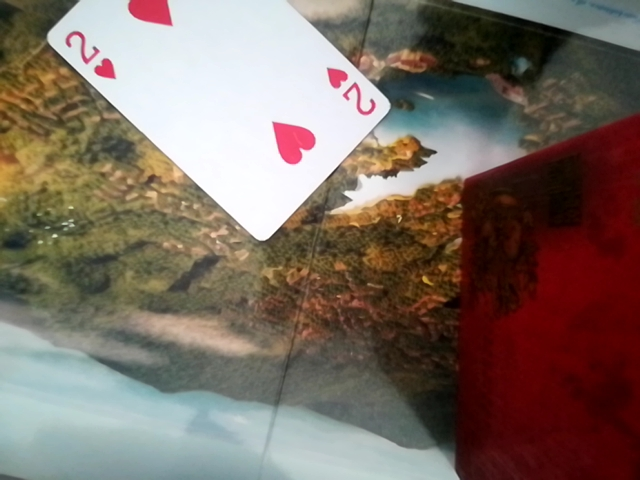hx 2: (46, 0, 388, 243)
